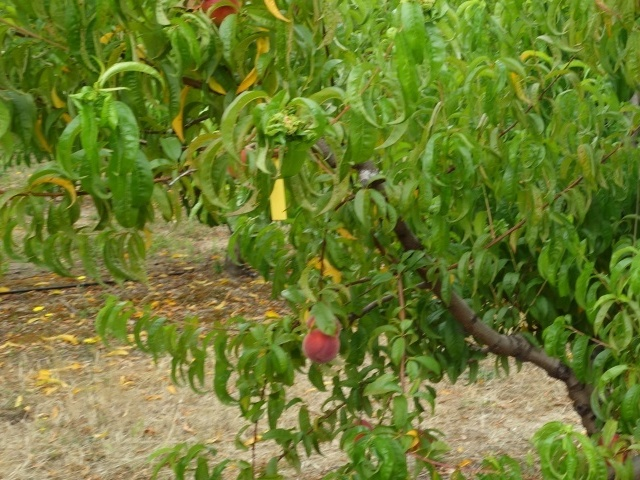peach: (298, 325, 342, 366), (196, 1, 245, 29)
